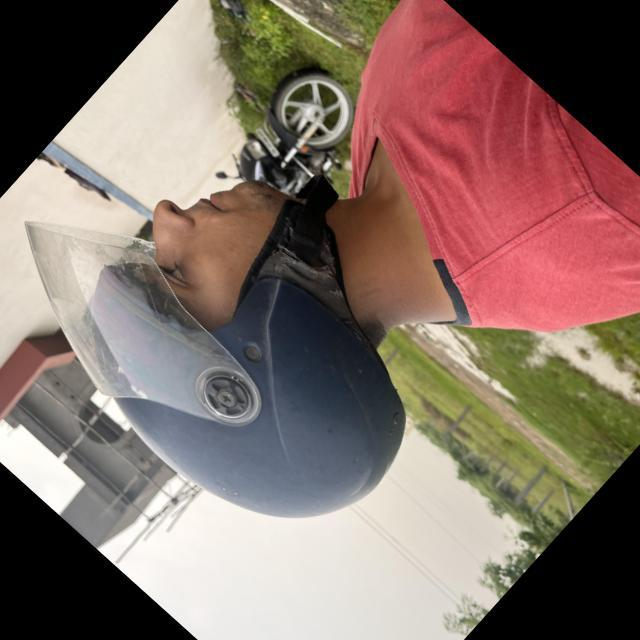WITH_HELMET: (0, 72, 483, 591)
